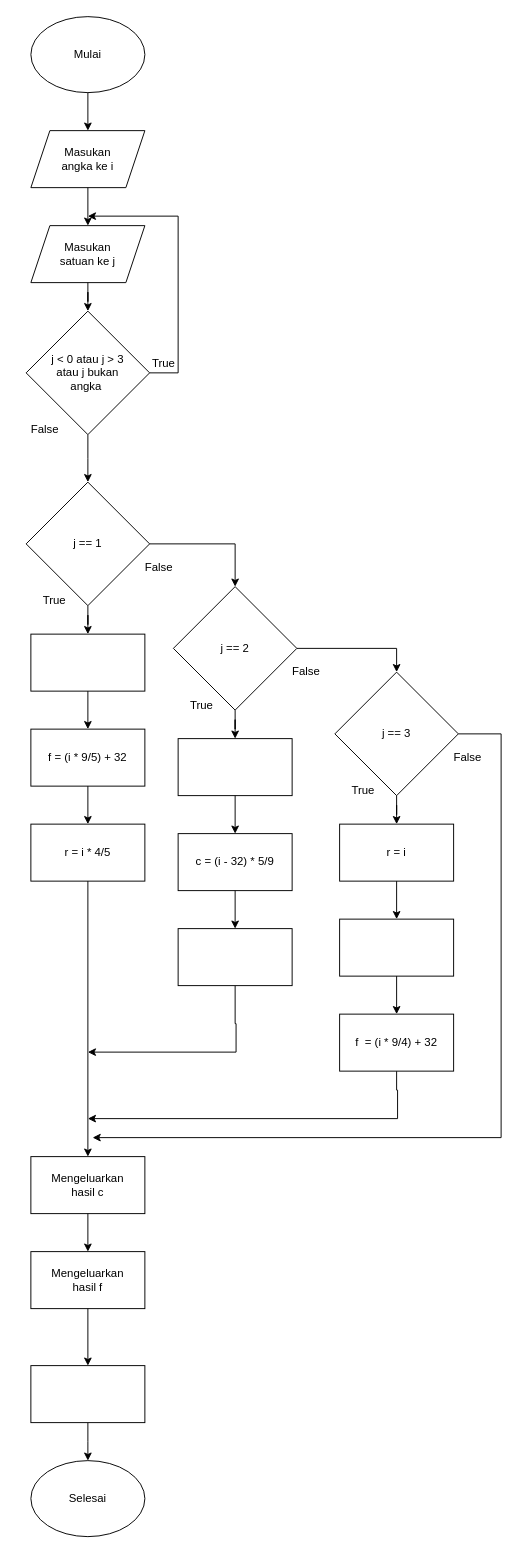
Image size: 525x1553. Some labels were removed from this diagram. Each missing label, with the centre of its shape:
c = i: pixel 87 662
c = i * 5/4: pixel 396 947
f = i: pixel 234 767
Mengeluarkan hasil r: pixel 87 1394
r = (i - 32) * 4/9: pixel 234 957
